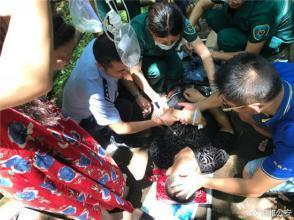Fall-Detected: (142, 71, 239, 217)
